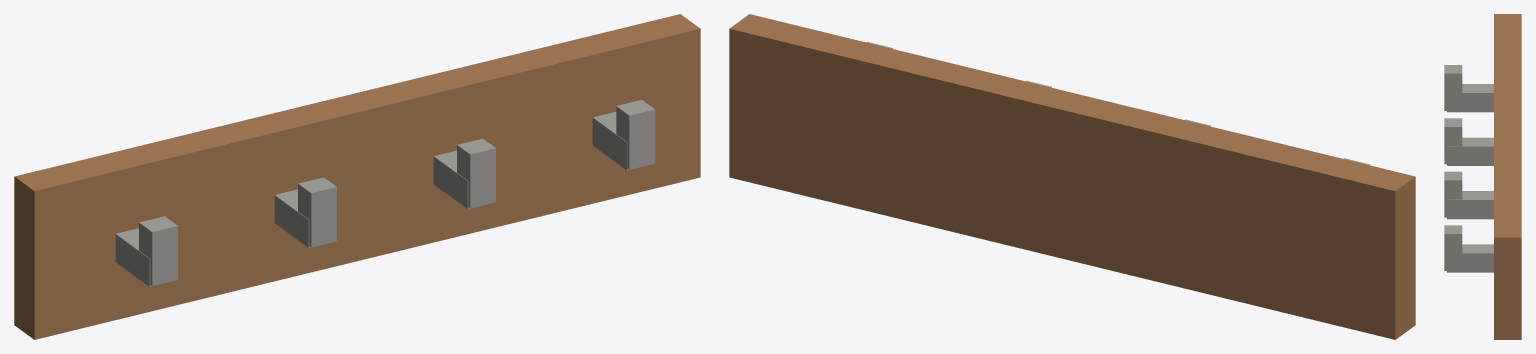
Rendered from coat_hooks.glb.
The picture shows the model from 3 angles, left to right: view 1: azimuth 30°, elevation 25°; view 2: azimuth 150°, elevation 25°; view 3: azimuth 270°, elevation 25°; orthographic projection. The views are drawn at different scales.
Visible parts, largest first — view 1: Mounting rail, Hook tip.003, Hook tip.001, Hook tip.002, Hook tip, Hook arm.003, Hook arm, Hook arm.001, Hook arm.002; view 2: Mounting rail; view 3: Mounting rail, Hook arm.002, Hook arm, Hook arm.001, Hook arm.003, Hook tip.001, Hook tip.002, Hook tip.003, Hook tip.
Boxes of the visible parts, box(x1,y1,x2,y2) form: Mounting rail: box(14, 14, 700, 339); Hook tip.003: box(616, 100, 655, 169); Hook tip.001: box(298, 177, 336, 247); Hook tip.002: box(457, 138, 495, 208); Hook tip: box(139, 216, 177, 285); Hook arm.003: box(592, 112, 652, 170); Hook arm: box(115, 228, 167, 286); Hook arm.001: box(274, 189, 331, 247); Hook arm.002: box(433, 150, 484, 209); Mounting rail: box(729, 14, 1415, 339); Mounting rail: box(1494, 14, 1521, 339); Hook arm.002: box(1447, 191, 1493, 219); Hook arm: box(1447, 84, 1493, 112); Hook arm.001: box(1447, 137, 1493, 165); Hook arm.003: box(1447, 244, 1493, 272); Hook tip.001: box(1444, 118, 1462, 164); Hook tip.002: box(1444, 171, 1462, 217); Hook tip.003: box(1444, 225, 1462, 270); Hook tip: box(1444, 65, 1462, 110).
Size of the model in its own units: 0.67 by 0.143 by 0.098.
